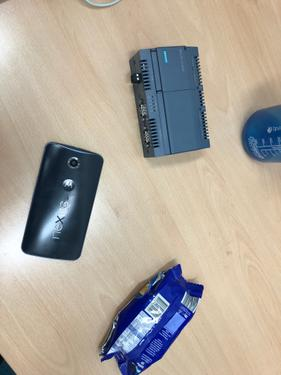device: (129, 46, 211, 159)
